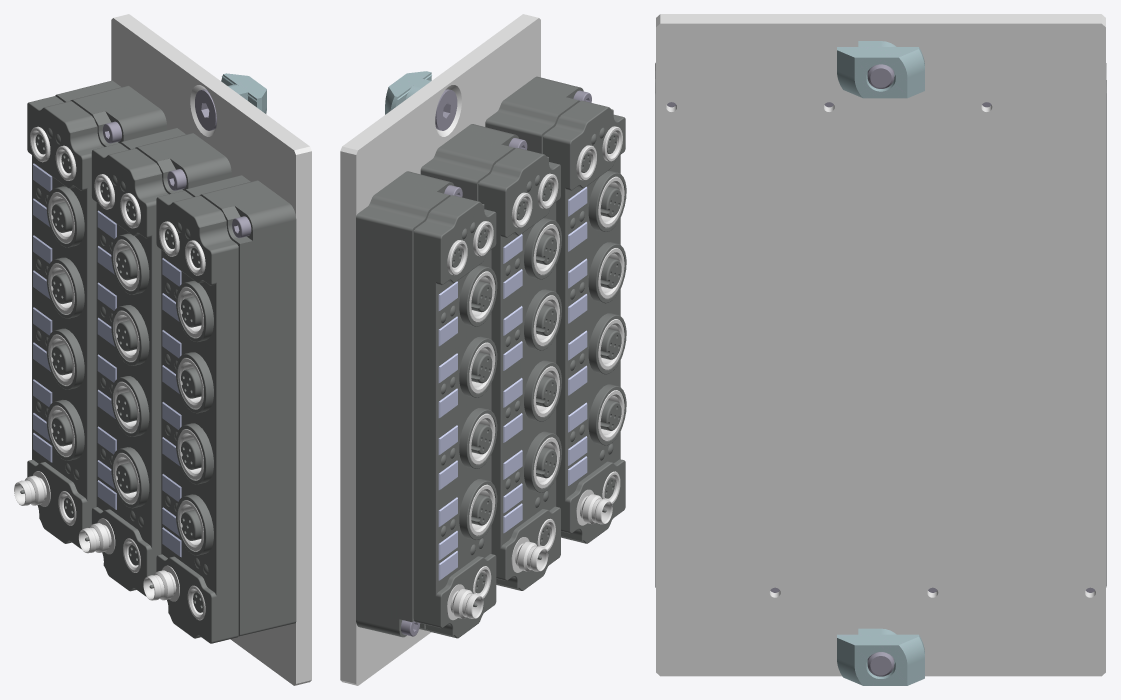
The model's file is ConnectorHub-transformed.glb.
The picture shows the model from 3 angles, left to right: view 1: azimuth 30°, elevation 25°; view 2: azimuth 150°, elevation 25°; view 3: azimuth 270°, elevation 25°; orthographic projection. The views are drawn at different scales.
Parts seen in each view (by area): view 1: DIN 912 - M3 x 0,5 x 16 x 14,75.ipt; view 2: DIN 912 - M3 x 0,5 x 16 x 14,75.ipt; view 3: DIN 912 - M3 x 0,5 x 16 x 14,75.ipt.
Part boxes in pixels (<box>): DIN 912 - M3 x 0,5 x 16 x 14,75.ipt: <box>14,14,311,685</box>; DIN 912 - M3 x 0,5 x 16 x 14,75.ipt: <box>340,14,626,685</box>; DIN 912 - M3 x 0,5 x 16 x 14,75.ipt: <box>655,14,1106,685</box>.
Size of the model in its own units: 0.0498 by 0.16 by 0.1003.
1 material, 1 textured.
